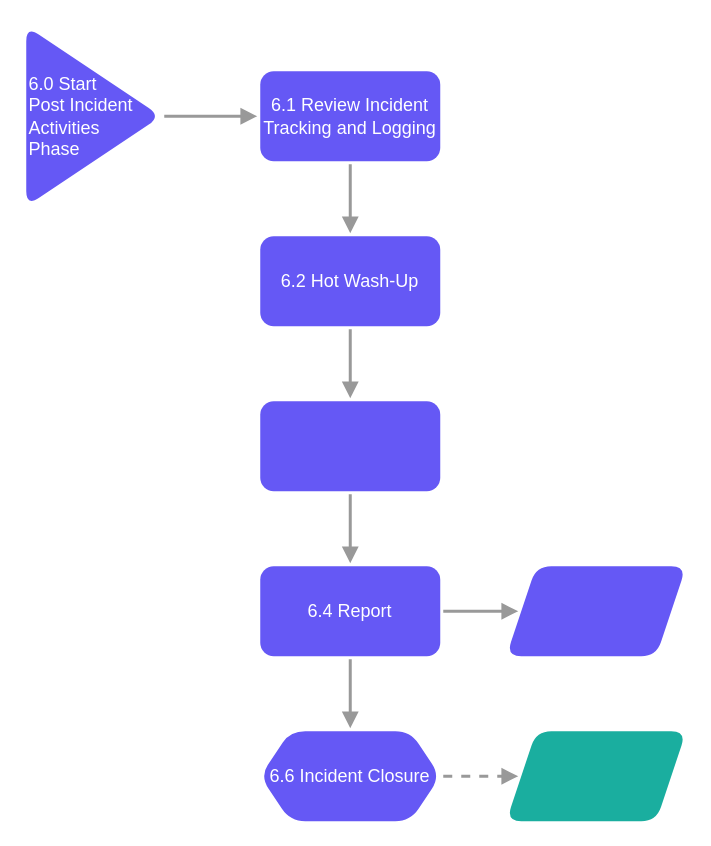
Image size: 711x846. Some labels were removed from this diagram. The shapes that lost their labels are listed below. From the top down, each one's centre as x and y in pixels, then its label:
point (350, 445): 6.3 Share IOCs and Experiences
point (596, 611): 6.5 Invoke Change Management
point (596, 775): 1.0 Preparation Phase
